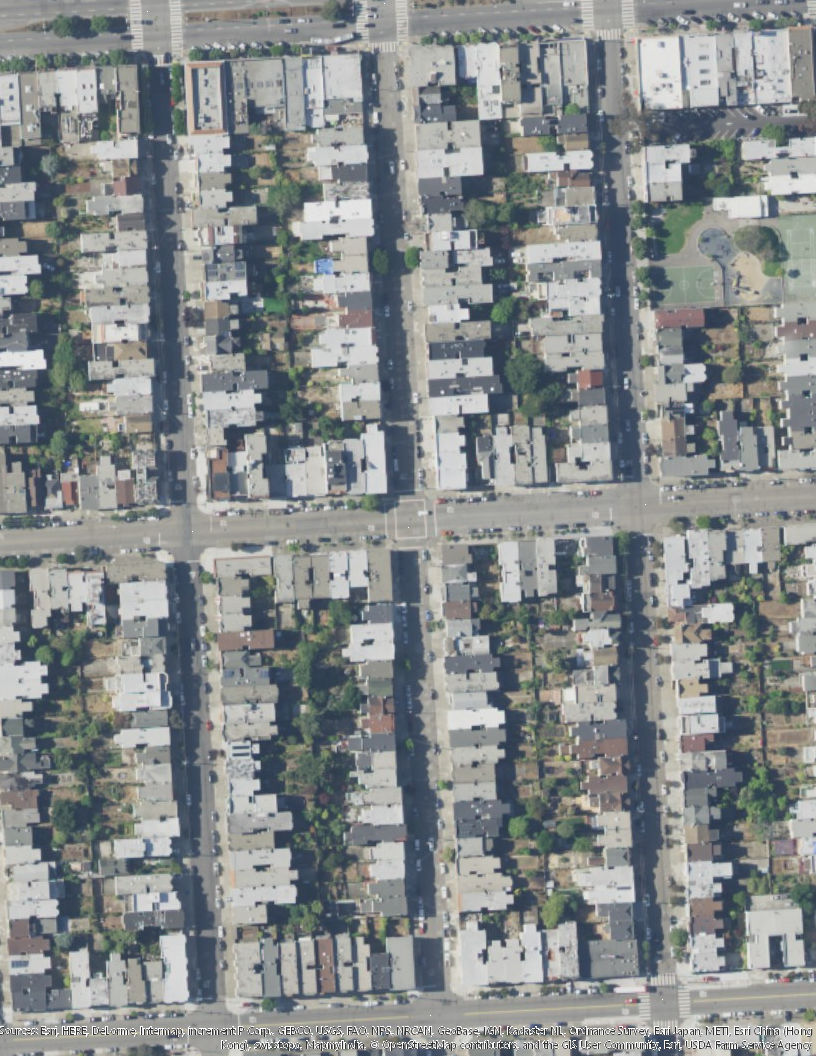zebracross: (167, 1, 185, 60), (129, 1, 145, 52), (394, 1, 410, 40), (356, 1, 370, 43), (677, 987, 693, 1018), (579, 1, 594, 31), (649, 973, 679, 988), (591, 29, 625, 41), (621, 1, 635, 30), (370, 41, 398, 55), (638, 993, 653, 1019), (652, 1019, 679, 1026), (806, 1, 816, 17)
